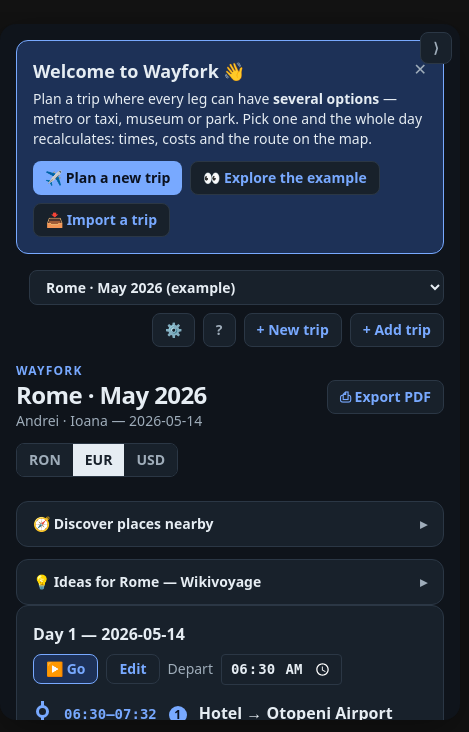
it: WayforkApp — first run › Plan a new trip opens the planning form
Click the button "✈️ Plan a new trip": (108, 178) [33,161,182,195]
(page scrolled)
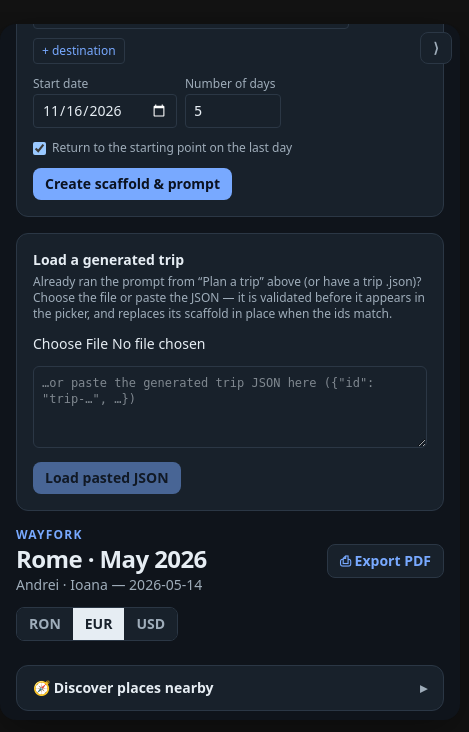
Result: the element with id "upload-trip" is shown at [16,233,444,511]
